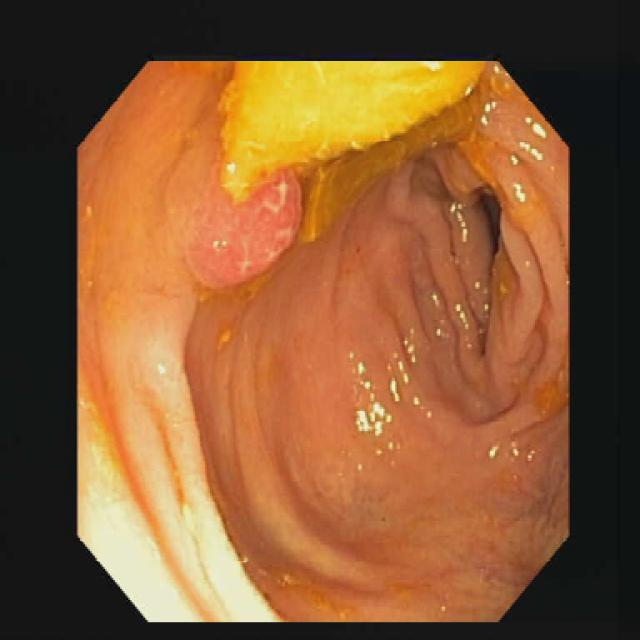tumor: (188, 171, 300, 287)
